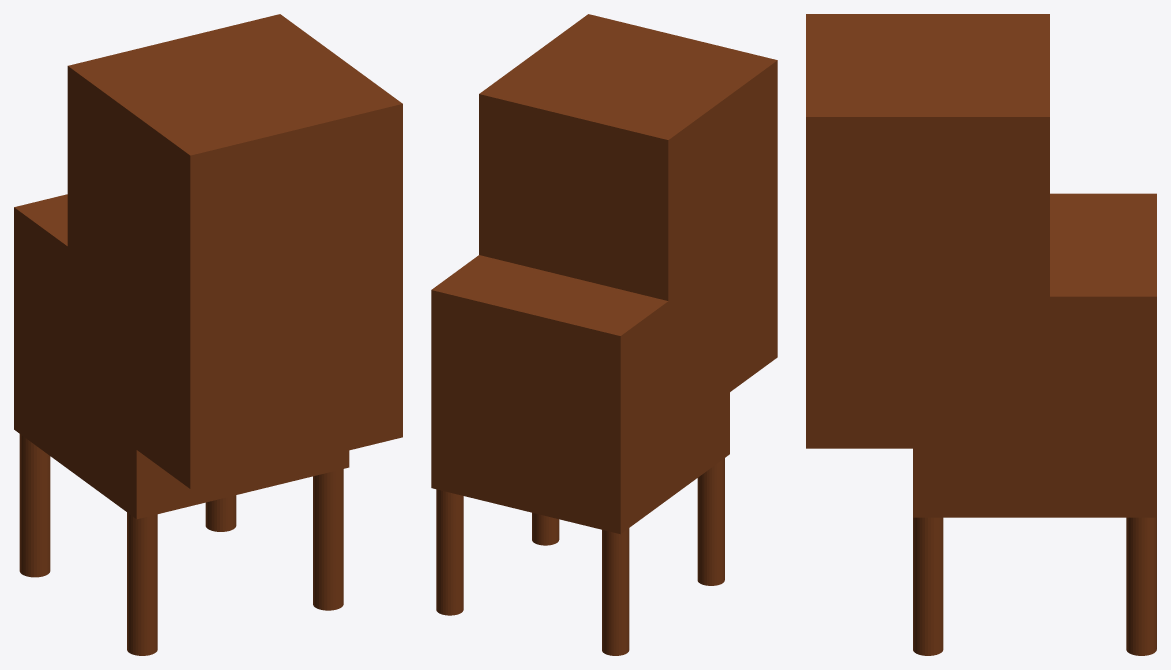
3 views of the same model, side by side, from view 1: azimuth 30°, elevation 25°; view 2: azimuth 150°, elevation 25°; view 3: azimuth 270°, elevation 25° (orthographic). The views are drawn at different scales.
Visible parts, largest first — view 1: Backrest, Seat, Leg_1, Leg_2, Leg_3, Leg_4; view 2: Backrest, Seat, Leg_3, Leg_4, Leg_1, Leg_2; view 3: Backrest, Seat, Leg_4, Leg_2.
Boxes of the visible parts, x1,y1,x2,y2 form: Backrest: (67,14,402,488); Seat: (14,194,349,519); Leg_1: (127,512,157,655); Leg_2: (313,469,343,610); Leg_3: (19,434,50,577); Leg_4: (205,495,236,531); Backrest: (479,14,777,436); Seat: (431,255,729,534); Leg_3: (602,528,629,655); Leg_4: (436,489,463,615); Leg_1: (697,458,724,585); Leg_2: (532,512,559,545); Backrest: (806,14,1049,448); Seat: (913,193,1156,517); Leg_4: (1126,517,1156,655); Leg_2: (913,517,943,655).
Bounding box in the file's own units: 0.8 × 1.95 × 1.15.
